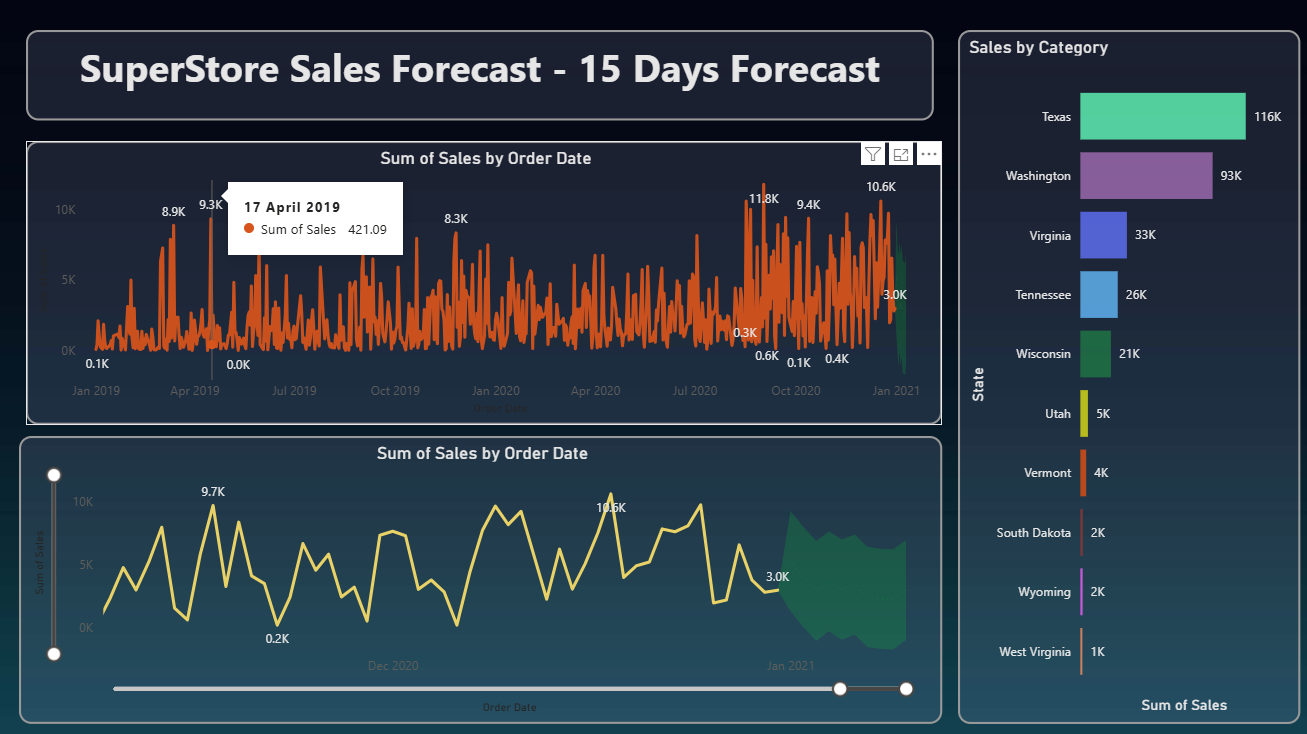

The page's visual inventory and layout, read from the dashboard file:
{"tool":"powerbi","page":{"name":"Page 2","canvas":[1280,720],"ordinal":1},"visuals":[{"type":"lineChart","fields":{"Y":["Sum(SuperStore_Sales_Dataset (1).Sales)"],"Category":["SuperStore_Sales_Dataset (1).Order Date"]},"box":[29.2,138.1,890.9,276.2],"z":0},{"type":"lineChart","fields":{"Y":["Sum(SuperStore_Sales_Dataset (1).Sales)"],"Category":["SuperStore_Sales_Dataset (1).Order Date"]},"box":[22.4,425,897.8,280.1],"z":1000},{"type":"clusteredBarChart","title":" Sales by Category","fields":{"Category":["SuperStore_Sales_Dataset (1).State"],"Y":["Sum(SuperStore_Sales_Dataset (1).Sales)"]},"box":[935.7,30.2,332.6,675],"z":2000},{"type":"textbox","box":[29.2,30.2,883.2,87.5],"z":3000}]}

Visuals, with their boxes in screenshot pixels (x1, y1, x2, y2), scaled from the page's 1280x720 canvas onto the 1307x734 screenshot:
lineChart - Sum(SuperStore_Sales_Dataset (1).Sales) x SuperStore_Sales_Dataset (1).Order Date: [x1=30, y1=141, x2=940, y2=422]
lineChart - Sum(SuperStore_Sales_Dataset (1).Sales) x SuperStore_Sales_Dataset (1).Order Date: [x1=23, y1=433, x2=940, y2=719]
" Sales by Category" clusteredBarChart: [x1=955, y1=31, x2=1295, y2=719]
textbox: [x1=30, y1=31, x2=932, y2=120]
